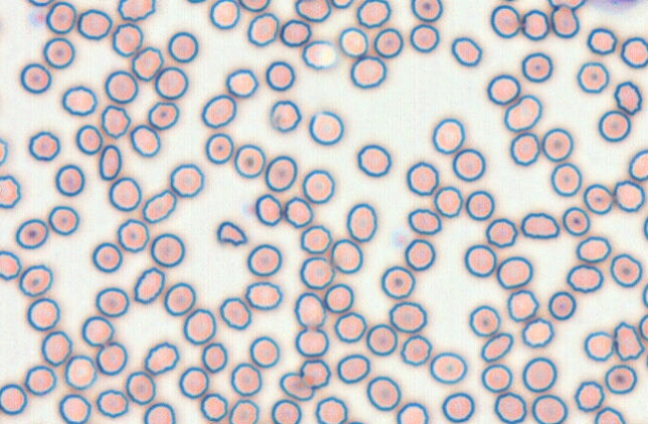PLT: (393, 230, 409, 249), (30, 10, 47, 27)
RBC: (503, 94, 542, 132), (521, 356, 557, 392), (366, 375, 401, 411), (308, 110, 344, 145), (182, 308, 216, 345), (496, 255, 533, 289), (431, 117, 465, 154), (429, 351, 467, 384), (388, 301, 427, 333), (346, 202, 377, 242), (150, 232, 185, 267), (169, 163, 204, 198), (143, 341, 179, 375), (133, 266, 165, 304), (142, 188, 176, 223), (380, 265, 415, 299), (18, 263, 53, 297), (201, 94, 236, 128), (356, 143, 391, 177), (293, 291, 326, 327), (64, 354, 97, 390), (350, 55, 386, 88), (264, 155, 297, 191), (246, 243, 282, 276), (26, 297, 60, 331), (154, 66, 188, 100), (299, 256, 334, 289), (330, 238, 363, 273), (609, 252, 642, 287), (108, 176, 141, 211), (301, 168, 334, 203), (406, 161, 439, 195), (163, 282, 196, 316), (104, 70, 138, 103), (131, 46, 163, 81), (111, 22, 143, 57), (77, 8, 112, 40), (233, 143, 265, 178), (541, 127, 573, 162), (41, 330, 72, 366), (61, 85, 97, 116), (245, 280, 282, 310), (566, 263, 603, 293), (520, 211, 559, 239), (506, 289, 539, 322), (463, 244, 496, 277), (452, 148, 485, 181), (598, 109, 631, 142), (230, 362, 262, 396), (219, 296, 251, 330), (117, 218, 149, 252), (486, 73, 520, 105), (247, 12, 279, 46), (550, 162, 582, 196), (531, 393, 567, 423), (301, 39, 337, 69), (81, 315, 114, 347), (333, 311, 366, 343), (365, 323, 397, 356), (493, 391, 526, 423), (468, 304, 500, 337), (613, 179, 645, 212), (576, 61, 609, 93), (125, 371, 156, 405), (96, 341, 127, 375), (336, 353, 370, 384), (509, 132, 540, 166), (95, 286, 129, 317), (294, 327, 329, 357), (400, 334, 432, 366), (42, 37, 74, 69), (521, 317, 554, 348), (178, 366, 209, 399), (480, 331, 513, 362), (604, 363, 637, 394), (249, 335, 280, 368), (404, 238, 435, 271), (45, 1, 76, 34), (129, 124, 160, 157), (15, 218, 48, 249), (54, 163, 85, 196), (100, 104, 130, 138), (490, 4, 520, 38), (278, 371, 313, 400), (613, 80, 642, 115), (575, 235, 611, 263), (573, 380, 604, 412), (91, 241, 122, 273), (20, 62, 51, 94), (167, 31, 198, 63), (28, 130, 60, 161), (521, 51, 553, 82), (58, 393, 91, 423), (95, 388, 128, 418), (24, 365, 57, 395), (441, 392, 474, 422), (225, 68, 258, 98), (550, 4, 579, 38), (583, 330, 614, 361), (48, 204, 79, 235), (480, 363, 512, 393), (283, 196, 313, 228), (299, 224, 331, 254), (485, 217, 517, 247), (433, 185, 463, 217), (147, 100, 179, 130), (450, 36, 482, 66), (356, 0, 390, 28), (299, 358, 330, 388), (583, 183, 613, 214), (338, 26, 368, 57), (265, 60, 295, 91), (373, 27, 403, 58), (279, 18, 311, 47), (205, 132, 234, 164), (254, 193, 282, 226), (407, 208, 441, 235), (324, 283, 354, 313), (409, 23, 439, 53), (209, 0, 240, 29), (465, 189, 494, 220), (314, 396, 347, 423), (547, 290, 576, 320), (521, 9, 549, 40), (586, 27, 617, 55), (75, 124, 103, 155), (0, 383, 27, 415), (98, 144, 122, 180), (620, 36, 647, 68), (200, 392, 228, 422), (562, 206, 590, 236), (201, 342, 228, 373), (294, 0, 331, 22), (117, 0, 155, 21), (270, 398, 301, 423), (228, 399, 259, 423), (0, 174, 21, 208), (396, 401, 428, 423), (410, 0, 442, 22), (143, 402, 175, 423), (0, 249, 21, 280), (628, 149, 647, 181), (593, 406, 626, 423), (547, 0, 586, 10), (239, 0, 270, 12), (638, 313, 647, 341), (0, 137, 8, 165), (330, 0, 353, 9), (27, 0, 54, 6), (642, 282, 648, 308), (643, 214, 648, 240), (343, 419, 367, 424), (186, 0, 206, 4), (497, 0, 521, 2)
Schistocyte: (616, 320, 645, 361), (270, 101, 303, 134), (217, 220, 248, 248)
